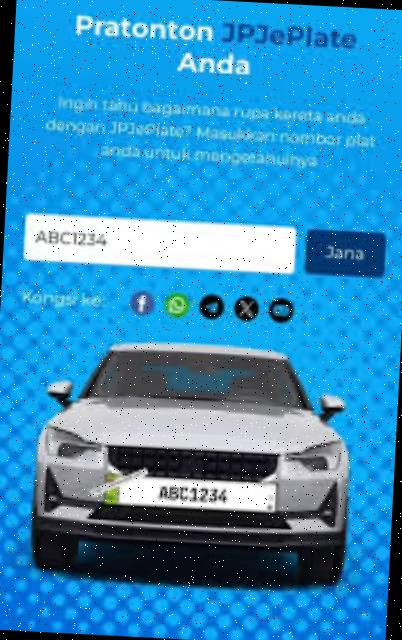License_Plate: (103, 470, 280, 514)
car: (29, 332, 357, 593)
